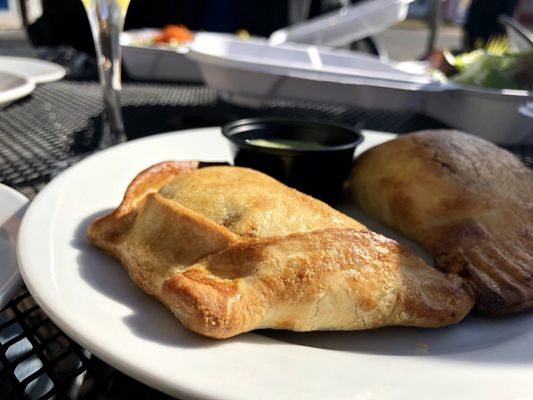soup: (349, 129, 533, 316)
sushi: (225, 117, 364, 207)
